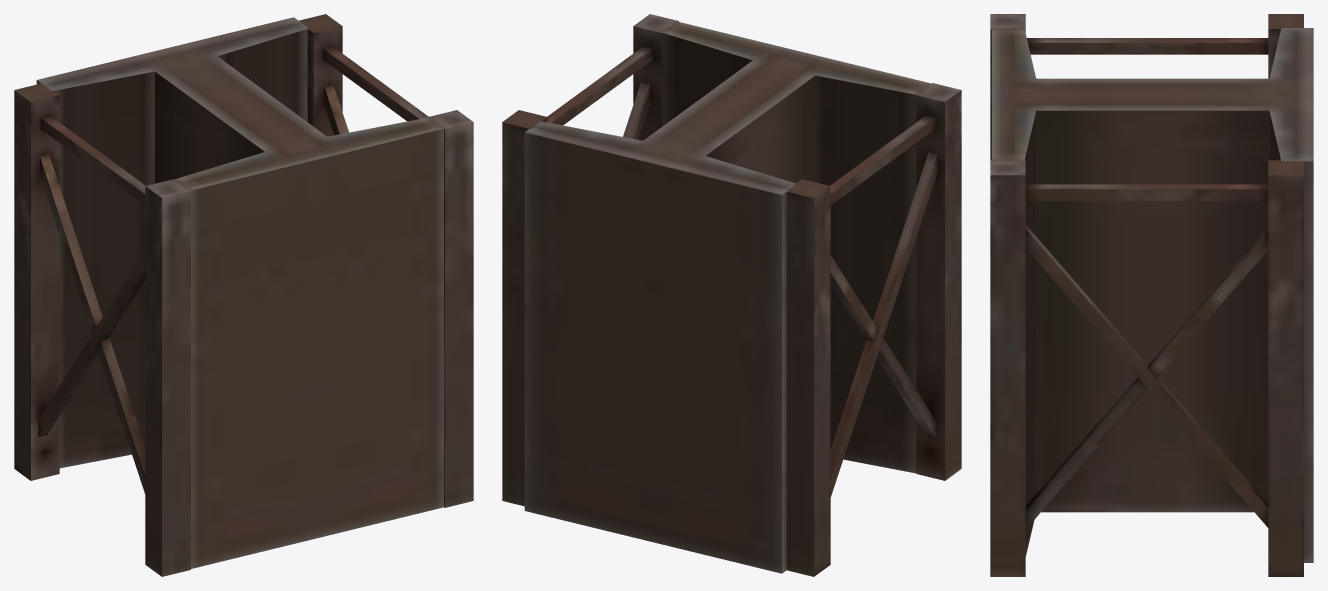
Rendered from steel-frame-box.gltf.
The picture shows the model from 3 angles, left to right: view 1: azimuth 30°, elevation 25°; view 2: azimuth 150°, elevation 25°; view 3: azimuth 270°, elevation 25°; orthographic projection. The views are drawn at different scales.
Parts seen in each view (by area): view 1: lp.007; view 2: lp.007; view 3: lp.007.
Part boxes in pixels (left/top/right/bottom): lp.007: left=14, top=14, right=473, bottom=576; lp.007: left=502, top=14, right=961, bottom=576; lp.007: left=990, top=14, right=1313, bottom=576.
Bounding box in the file's own units: 1.98 × 2.3 × 1.68.
Materials: 1 (1 with a texture image).
